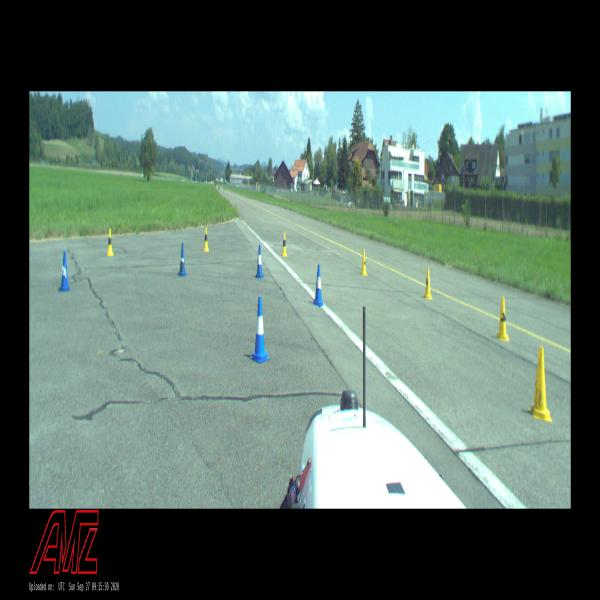blue_cone: (250, 296, 269, 363), (312, 265, 324, 306), (59, 250, 70, 291), (178, 242, 187, 276), (256, 245, 264, 278)
yellow_cone: (529, 346, 552, 422), (497, 296, 509, 341), (424, 268, 432, 299), (106, 228, 113, 256), (281, 233, 288, 256), (361, 249, 367, 275), (203, 227, 209, 252)
